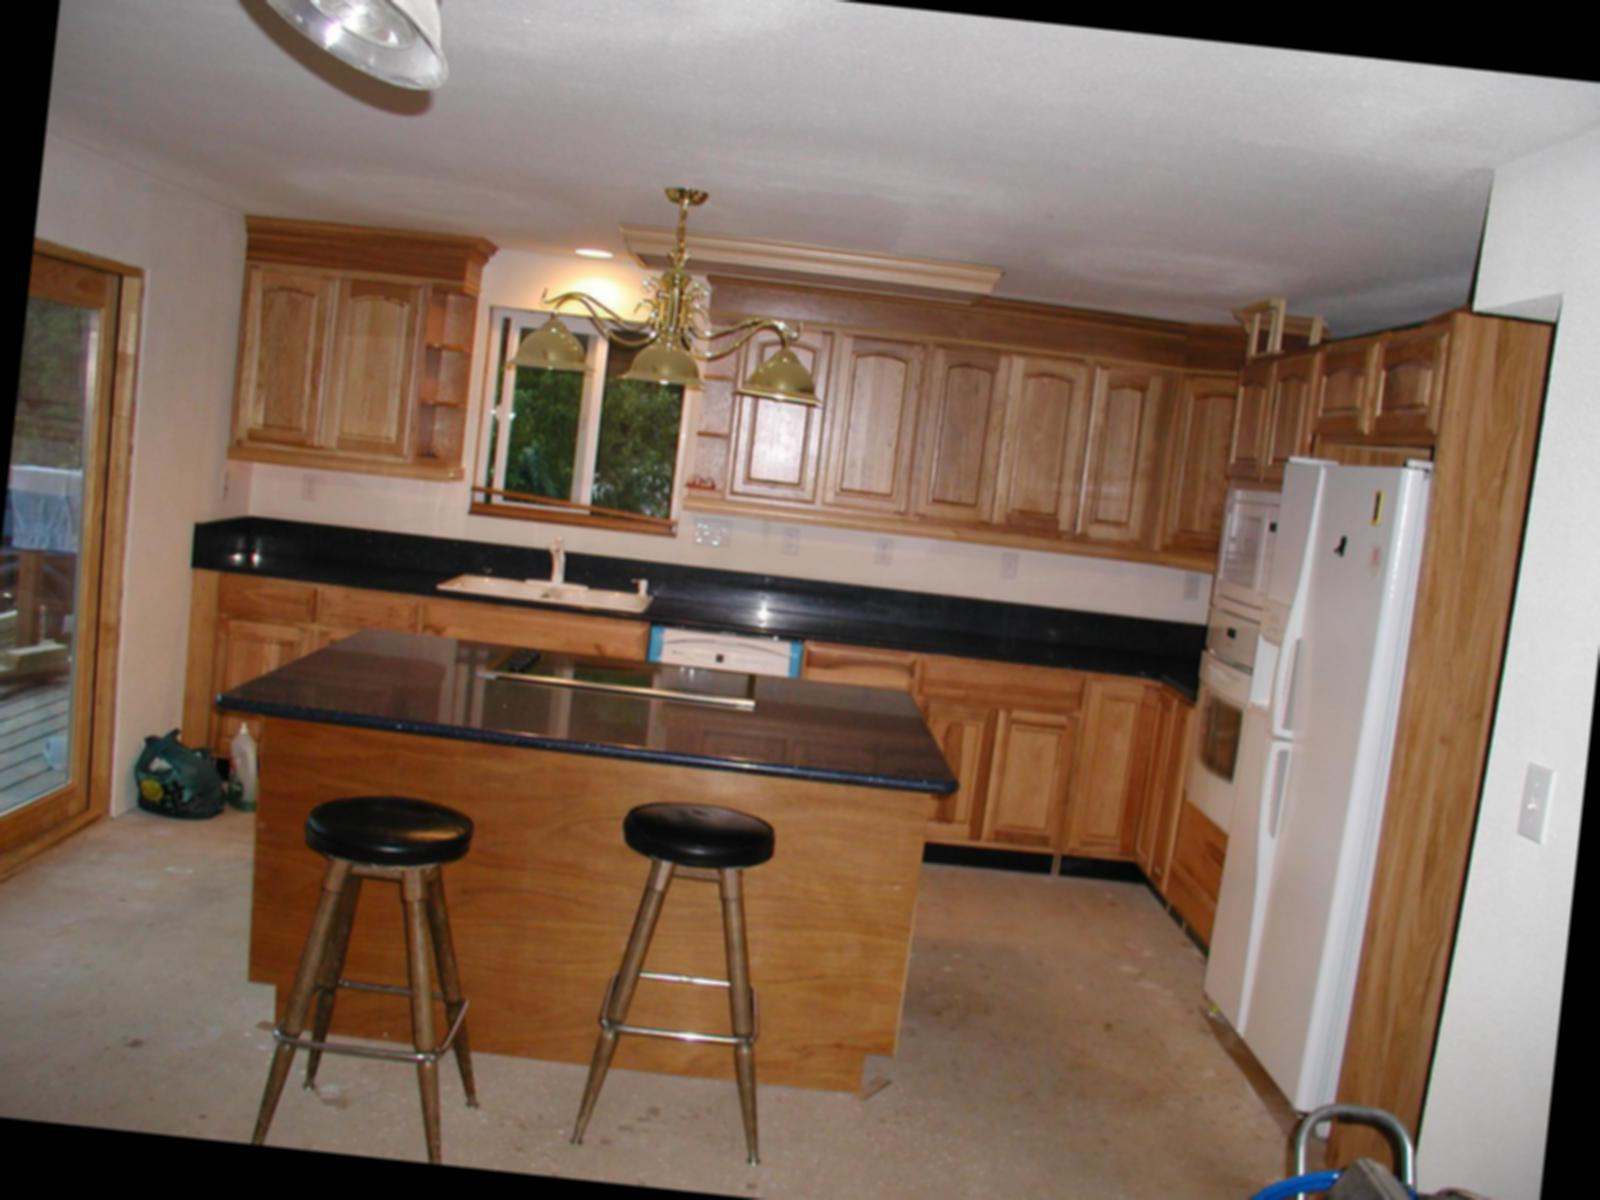Electrodomestico: (1216, 451, 1386, 1121)
Lavaplatos: (411, 513, 683, 626)
